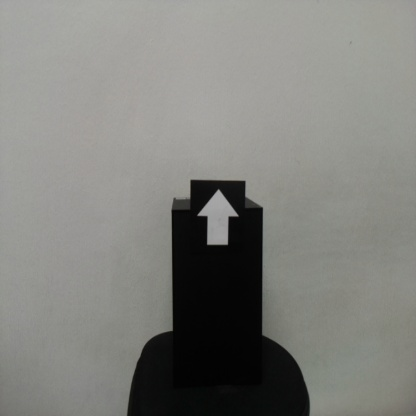id_1: (190, 180, 246, 261)
